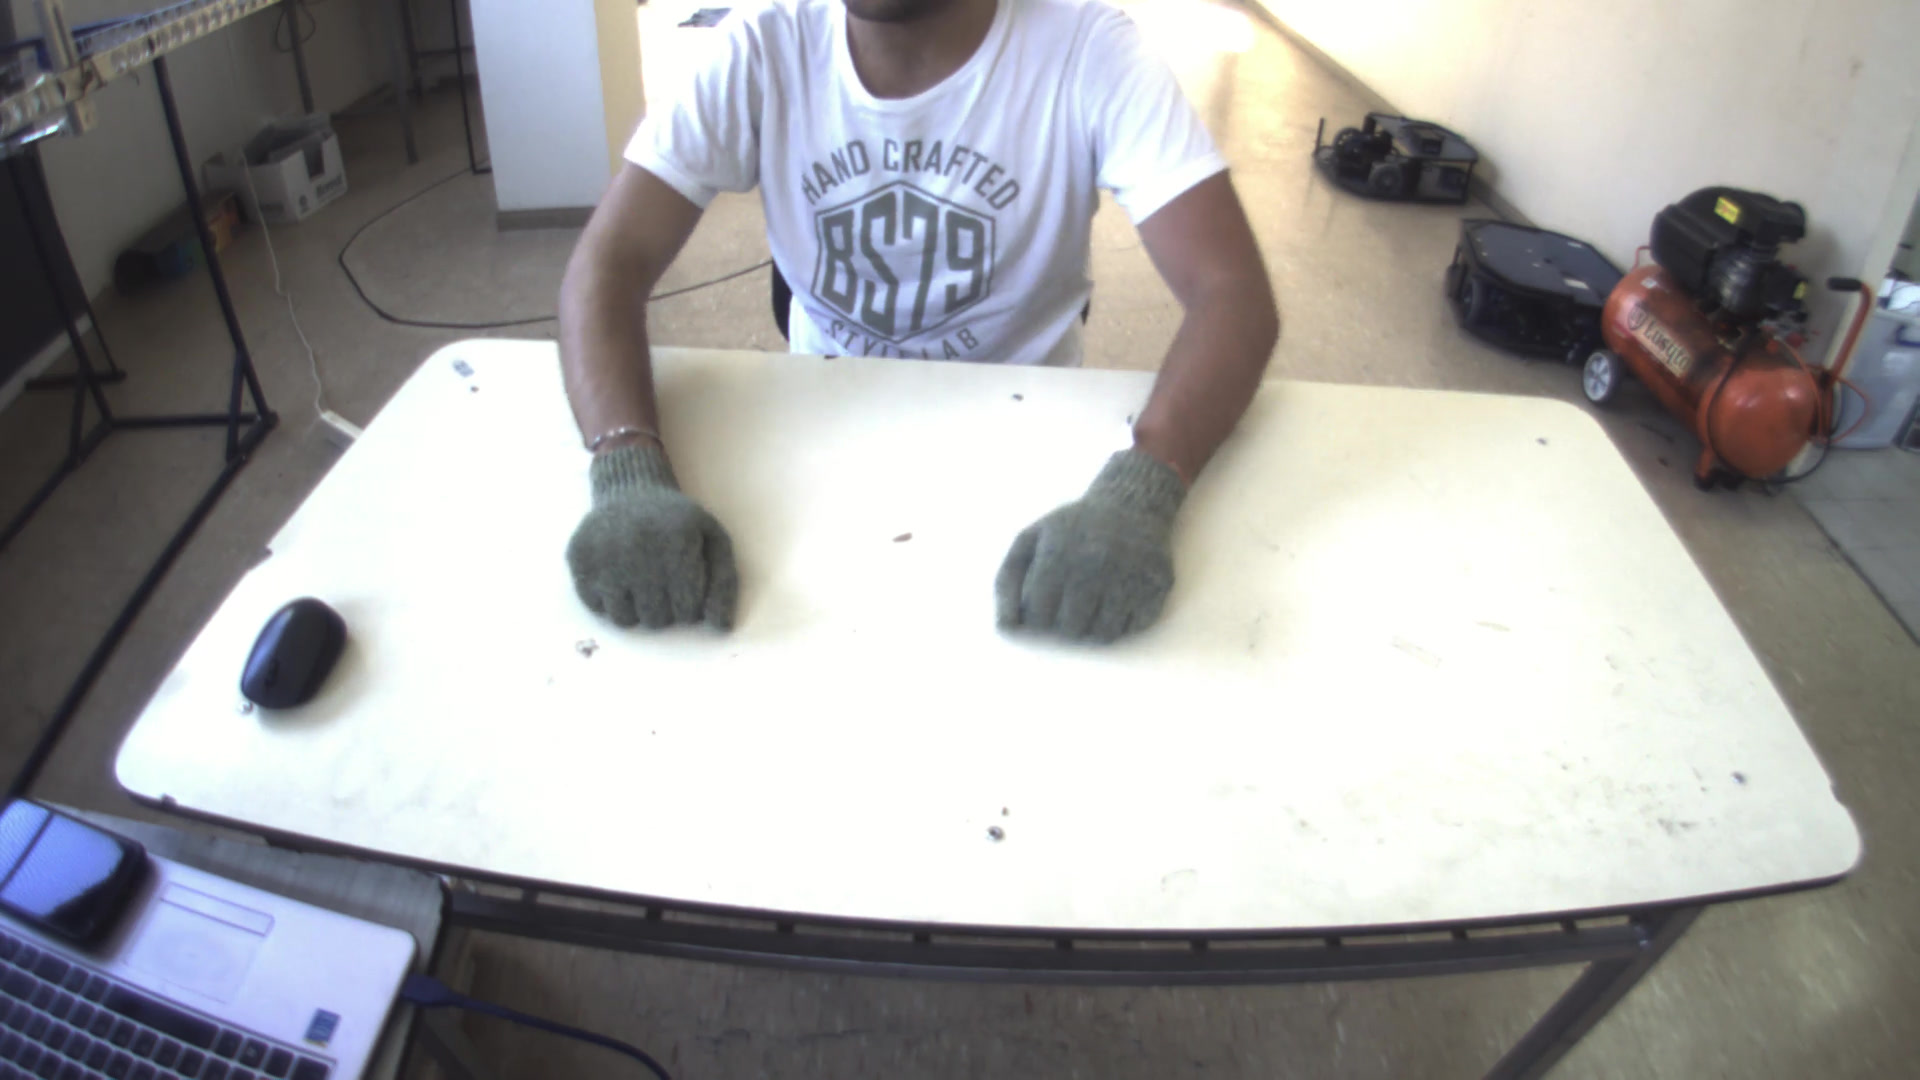hand: (988, 435, 1203, 650), (554, 419, 738, 636)
